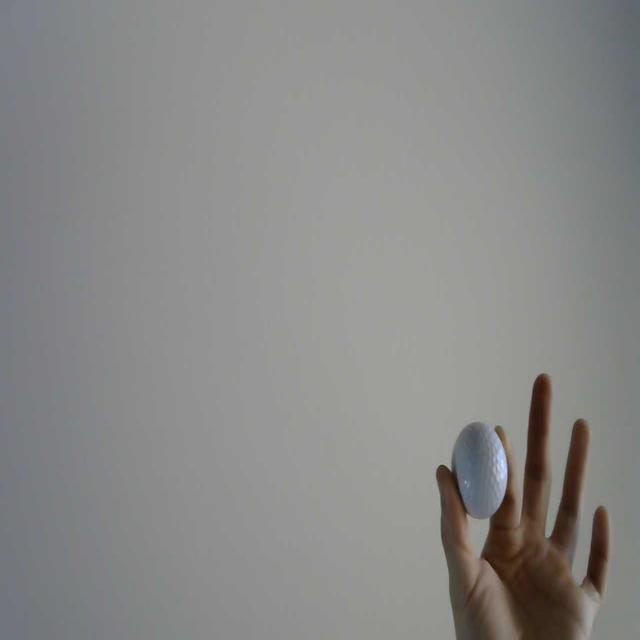golfball: (451, 418, 509, 522)
